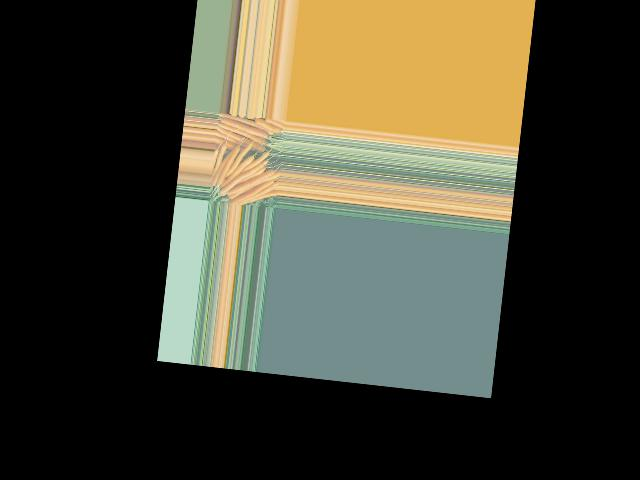carrot: (212, 145, 236, 187)
